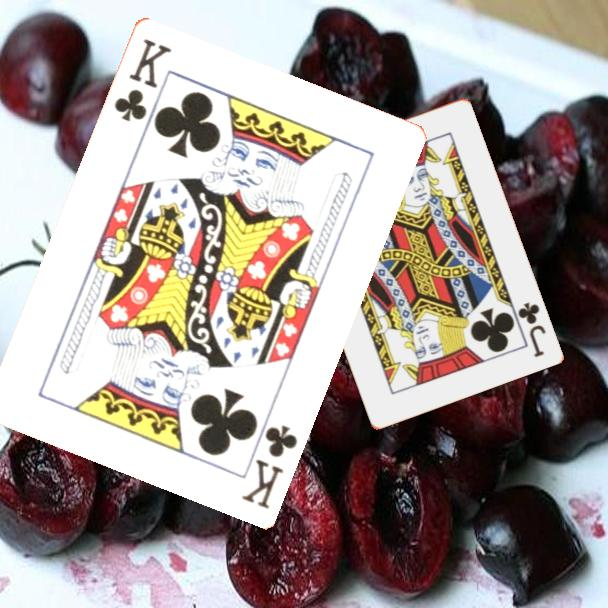c11: (514, 298, 548, 360)
c13: (237, 420, 301, 512), (110, 34, 175, 124)
